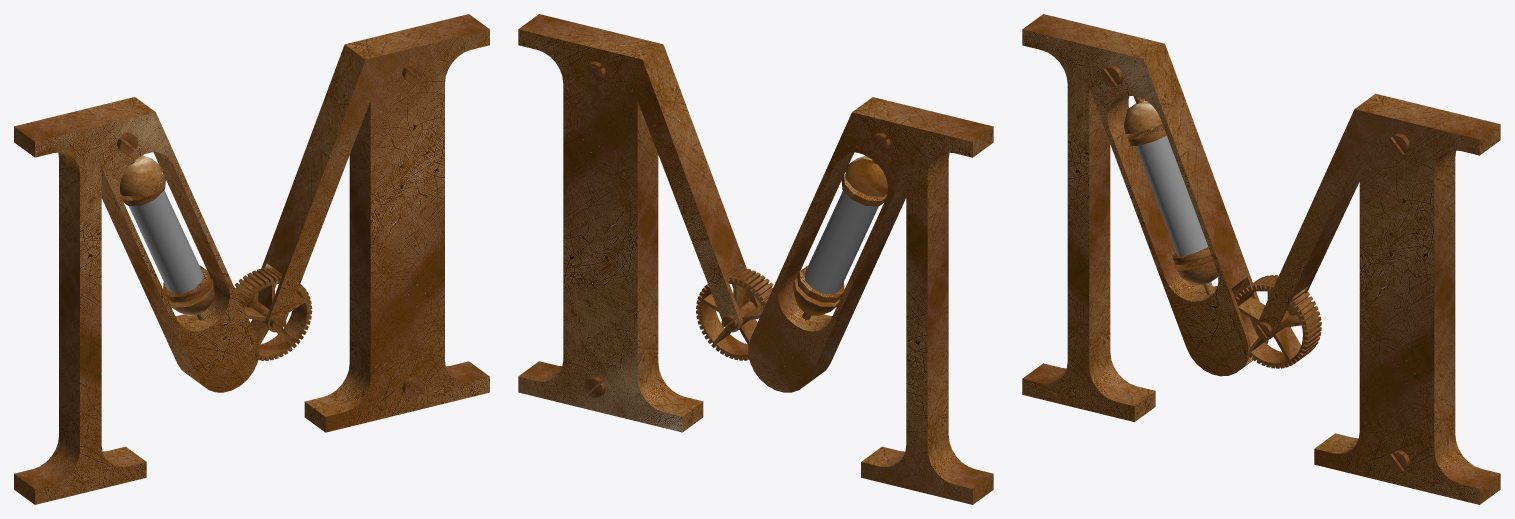
The picture shows the model from 3 angles, left to right: view 1: azimuth 30°, elevation 25°; view 2: azimuth 150°, elevation 25°; view 3: azimuth 330°, elevation 25°; orthographic projection.
Visible parts, largest first — view 1: M, Tube031, Cogwheel_337, Sphere_042, Sphere_043, Tube032, Tube033; view 2: M, Tube031, Cogwheel_337, Sphere_042, Sphere_043, Tube032, Tube033; view 3: M, Cogwheel_337, Tube031, Sphere_042, Sphere_043.
Part boxes in pixels (left/top/right/bottom): M: left=14, top=14, right=489, bottom=504; Tube031: left=129, top=190, right=202, bottom=293; Cogwheel_337: left=235, top=268, right=312, bottom=360; Sphere_042: left=120, top=155, right=162, bottom=196; Sphere_043: left=167, top=278, right=214, bottom=315; Tube032: left=163, top=265, right=210, bottom=302; Tube033: left=120, top=174, right=165, bottom=205; M: left=518, top=14, right=993, bottom=504; Tube031: left=804, top=190, right=878, bottom=294; Cogwheel_337: left=696, top=267, right=773, bottom=360; Sphere_042: left=845, top=155, right=887, bottom=196; Sphere_043: left=793, top=278, right=839, bottom=315; Tube032: left=797, top=265, right=844, bottom=302; Tube033: left=841, top=174, right=887, bottom=206; M: left=1022, top=14, right=1500, bottom=504; Cogwheel_337: left=1235, top=275, right=1321, bottom=368; Tube031: left=1136, top=135, right=1207, bottom=256; Sphere_042: left=1124, top=100, right=1162, bottom=133; Sphere_043: left=1176, top=255, right=1218, bottom=285.
Size of the model in its own units: 125 by 96.13 by 12.89.
Materials: 2 (1 with a texture image).
